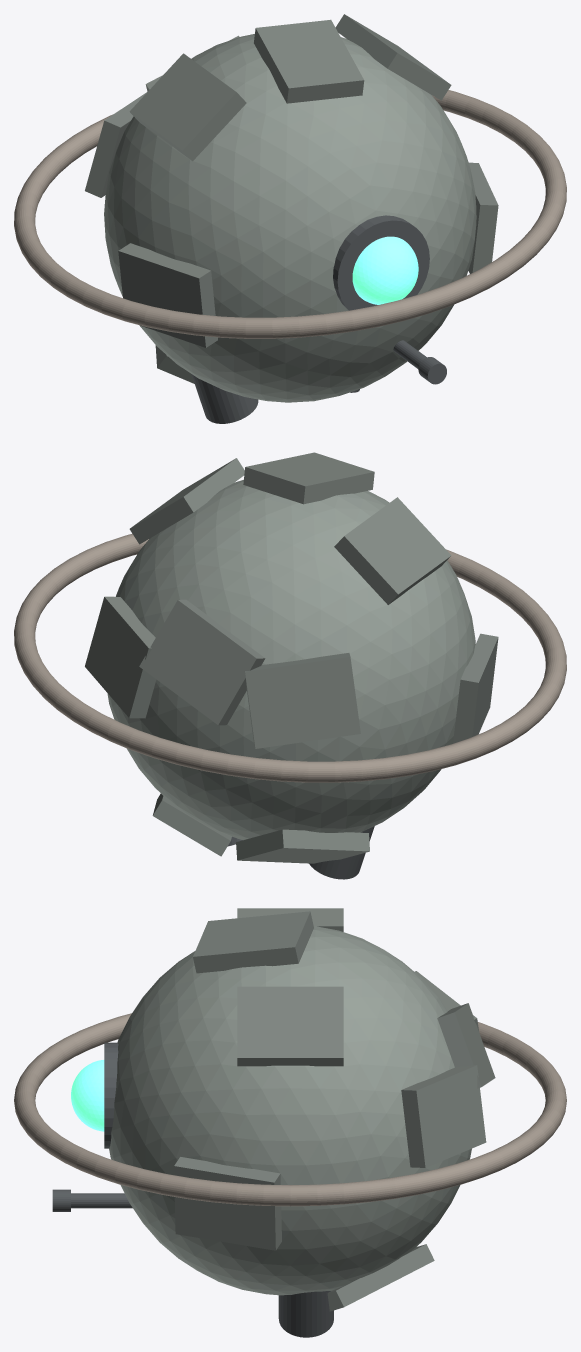
File: sentry.glb
3 views of the same model, one above another, from view 1: azimuth 30°, elevation 25°; view 2: azimuth 150°, elevation 25°; view 3: azimuth 270°, elevation 25° (orthographic).
Visible parts, largest first — view 1: body, ring, plate0, plate2, plate6, eye_socket, eye, plate1, plate5, plate4, thruster_-1, gun_muzzle (+1 smaller); view 2: body, ring, plate4, plate7, plate2, plate3, plate0, plate9, plate6, plate1, plate8, thruster_-1; view 3: body, ring, plate1, plate3, plate5, plate0, plate7, thruster_1, plate8, eye, eye_socket, plate2 (+1 smaller).
Part boxes in pixels (left/top/right/bottom): body: left=104, top=34, right=476, bottom=402; ring: left=14, top=90, right=566, bottom=338; plate0: left=254, top=19, right=364, bottom=103; plate2: left=129, top=53, right=246, bottom=161; plate6: left=118, top=243, right=217, bottom=347; eye_socket: left=333, top=215, right=429, bottom=310; eye: left=352, top=236, right=418, bottom=304; plate1: left=335, top=14, right=451, bottom=100; plate5: left=468, top=162, right=498, bottom=273; plate4: left=85, top=92, right=146, bottom=197; thruster_-1: left=191, top=374, right=258, bottom=423; gun_muzzle: left=418, top=357, right=446, bottom=384; body: left=107, top=479, right=475, bottom=840; ring: left=14, top=533, right=566, bottom=782; plate4: left=245, top=653, right=360, bottom=748; plate7: left=139, top=599, right=265, bottom=725; plate2: left=334, top=497, right=451, bottom=604; plate3: left=85, top=596, right=156, bottom=718; plate0: left=243, top=452, right=374, bottom=504; plate9: left=236, top=829, right=369, bottom=863; plate6: left=453, top=633, right=498, bottom=743; plate1: left=129, top=458, right=244, bottom=544; plate8: left=152, top=793, right=231, bottom=856; thruster_-1: left=309, top=826, right=374, bottom=879; body: left=109, top=926, right=471, bottom=1295; ring: left=14, top=1013, right=566, bottom=1206; plate1: left=237, top=986, right=343, bottom=1066; plate3: left=401, top=1065, right=486, bottom=1167; plate5: left=174, top=1157, right=281, bottom=1250; plate0: left=193, top=911, right=313, bottom=973; plate7: left=437, top=1003, right=495, bottom=1088; thruster_1: left=278, top=1291, right=333, bottom=1337; plate8: left=327, top=1244, right=434, bottom=1311; eye: left=71, top=1060, right=104, bottom=1131; eye_socket: left=104, top=1042, right=118, bottom=1148; plate2: left=237, top=908, right=343, bottom=931.
Size of the model in its own units: 1.04 by 0.7853 by 1.04.
